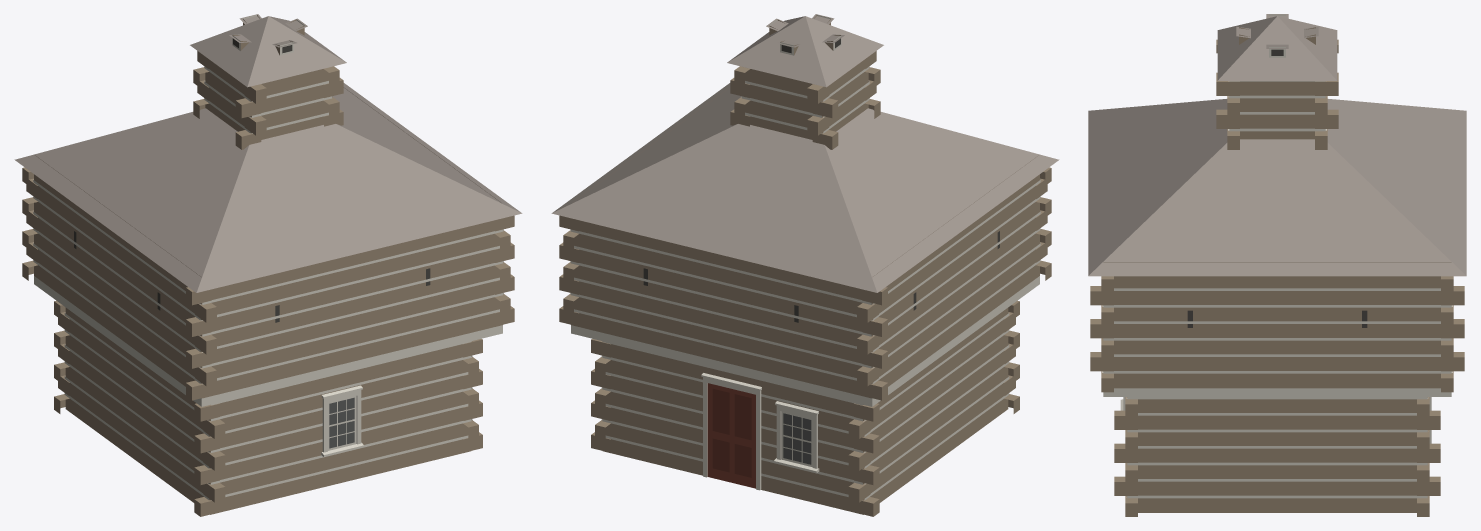
File: first_fort_dearborn_blockhouse_se__first_fort_1803.glb
3 renders of one model, left to right at view 1: azimuth 30°, elevation 25°; view 2: azimuth 150°, elevation 25°; view 3: azimuth 270°, elevation 25°, orthographic. The views are drawn at different scales.
Parts seen in each view (by area): view 1: first_fort_dearborn_blockhouse_se__first_fort_1803; view 2: first_fort_dearborn_blockhouse_se__first_fort_1803; view 3: first_fort_dearborn_blockhouse_se__first_fort_1803.
Part boxes in pixels (x1,y1,x2,y2): first_fort_dearborn_blockhouse_se__first_fort_1803: (14,14,522,516); first_fort_dearborn_blockhouse_se__first_fort_1803: (551,14,1059,516); first_fort_dearborn_blockhouse_se__first_fort_1803: (1088,14,1466,516).
Size of the model in its own units: 7.31 by 8.87 by 7.07.
